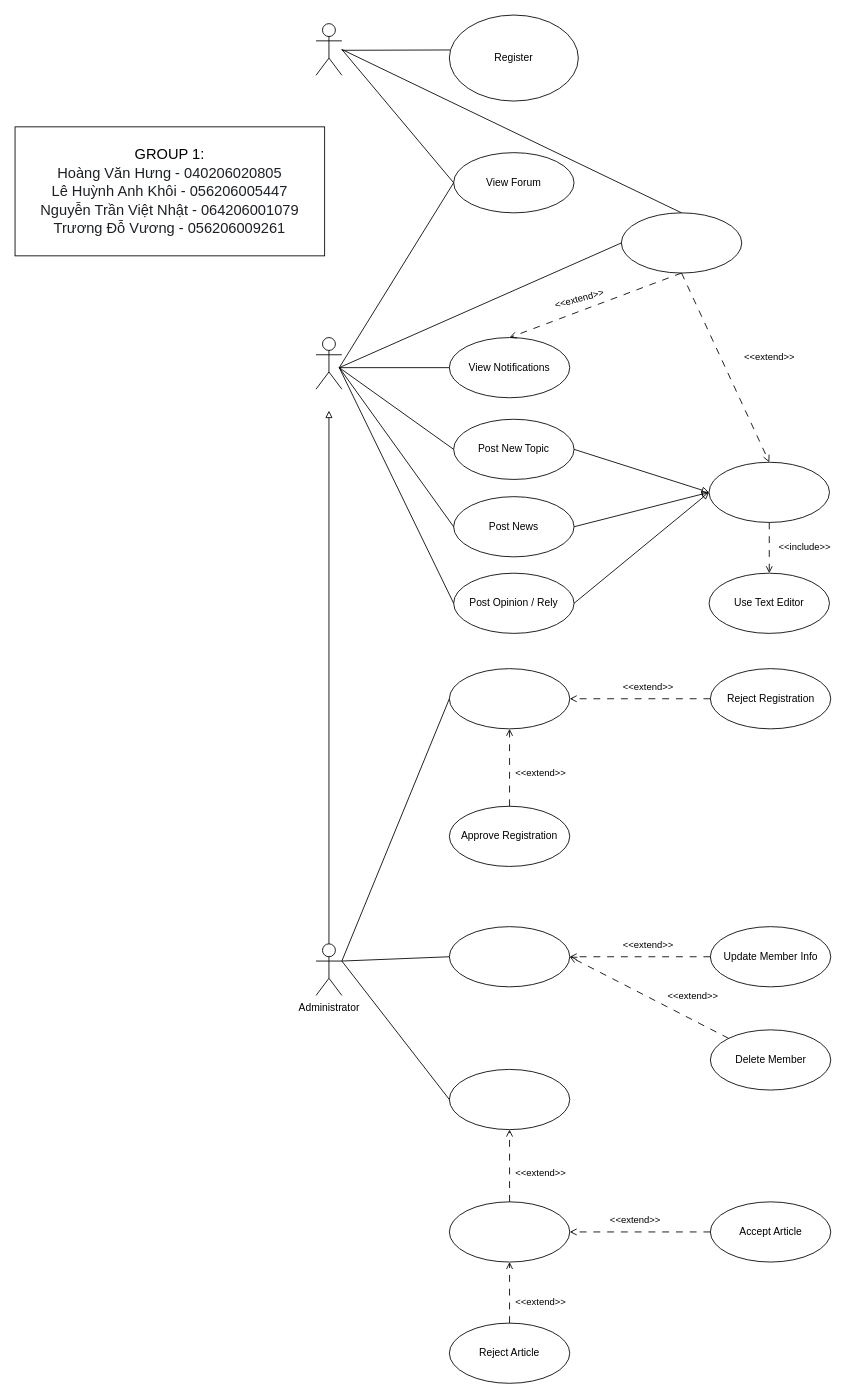
Some shapes in this 846 by 1398 pixel diagram are drawn without their labels. Here are the shapes that lost their labels. From the top down, the centre of each, then its label:
(x=328, y=49): User
(x=681, y=242): Login
(x=328, y=363): Member
(x=768, y=491): Post Article
(x=509, y=698): View Submited Registrations
(x=509, y=956): Manage Members
(x=509, y=1099): View Submitted Articles
(x=509, y=1231): Review Article
